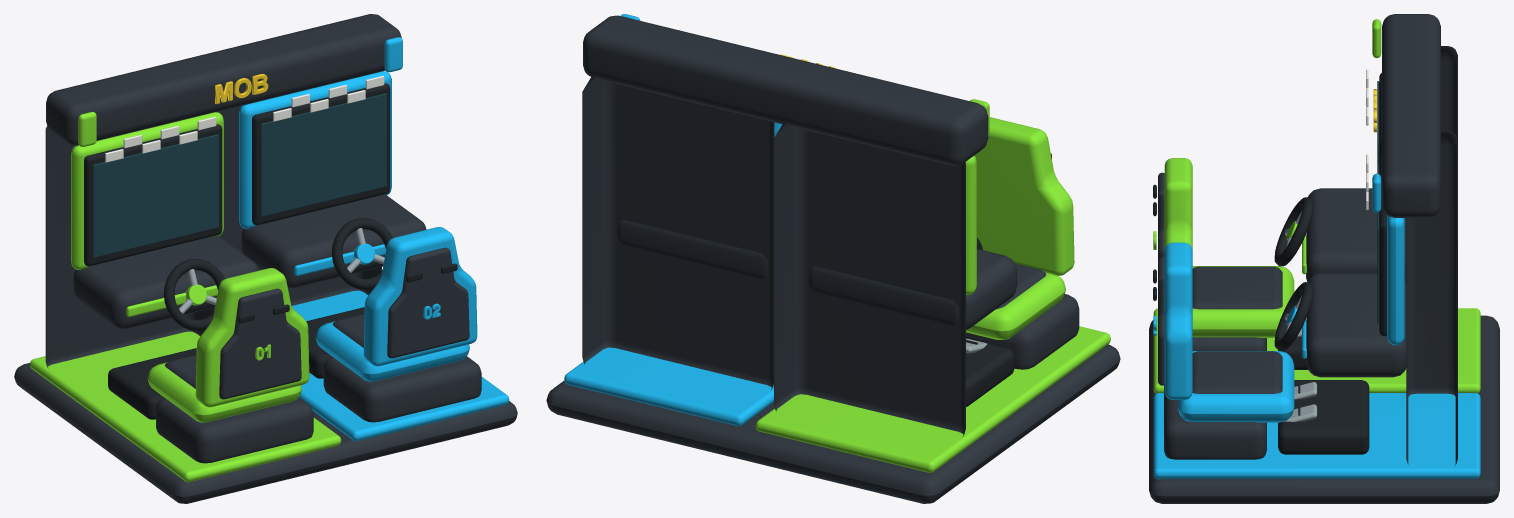
File: race.glb
3 renders of one model, left to right at view 1: azimuth 30°, elevation 25°; view 2: azimuth 150°, elevation 25°; view 3: azimuth 270°, elevation 25°, orthographic. The views are drawn at different scales.
Visible parts, largest first — view 1: Connected overhead MOB marquee, Connected two seat plinth, screen_right, screen_left, Cabinet color side sill, Monitor tower side silhouette, Dashboard molded housing, Dashboard molded housing.001, Seat pedestal.001, Seat pedestal, Seat back upholstery, Seat back upholstery.001 (+21 smaller); view 2: Monitor tower side silhouette, Monitor tower side silhouette.001, Connected overhead MOB marquee, Connected two seat plinth, Cabinet color side sill, Sculpted bucket seat shell, Cabinet color side sill.001, Dashboard molded housing, Dashboard molded housing.001, Seat pedestal, Seat cushion color shell, Pedal footwell (+2 smaller); view 3: Cabinet color side sill.001, Connected two seat plinth, Connected overhead MOB marquee, Monitor tower side silhouette.001, Dashboard molded housing.001, Dashboard molded housing, Pedal footwell.001, Sculpted bucket seat shell.001, Seat pedestal.001, Seat cushion upholstered, Seat cushion upholstered.001, Seat cushion color shell.001 (+12 smaller).
Boxes of the visible parts, x1,y1,x2,y2 form: Connected overhead MOB marquee: [46, 14, 401, 145]; Connected two seat plinth: [14, 363, 517, 503]; screen_right: [261, 93, 386, 216]; screen_left: [93, 134, 218, 257]; Cabinet color side sill: [30, 331, 341, 482]; Monitor tower side silhouette: [45, 126, 213, 368]; Dashboard molded housing: [73, 236, 258, 328]; Dashboard molded housing.001: [241, 195, 426, 287]; Seat pedestal.001: [323, 356, 481, 422]; Seat pedestal: [156, 397, 313, 463]; Seat back upholstery: [219, 288, 301, 399]; Seat back upholstery.001: [387, 247, 469, 358]; Monitor tower side silhouette: [774, 115, 965, 436]; Monitor tower side silhouette.001: [582, 67, 774, 389]; Connected overhead MOB marquee: [583, 15, 988, 165]; Connected two seat plinth: [546, 344, 1120, 503]; Cabinet color side sill: [755, 326, 1110, 472]; Sculpted bucket seat shell: [974, 117, 1074, 275]; Cabinet color side sill.001: [564, 347, 773, 426]; Dashboard molded housing: [809, 248, 1017, 329]; Dashboard molded housing.001: [617, 219, 767, 278]; Seat pedestal: [966, 294, 1079, 369]; Seat cushion color shell: [966, 272, 1065, 339]; Pedal footwell: [966, 343, 1014, 406]; Cabinet color side sill.001: [1153, 393, 1480, 479]; Connected two seat plinth: [1149, 315, 1499, 503]; Connected overhead MOB marquee: [1382, 14, 1440, 217]; Monitor tower side silhouette.001: [1406, 130, 1457, 465]; Dashboard molded housing.001: [1306, 273, 1407, 377]; Dashboard molded housing: [1306, 188, 1406, 281]; Pedal footwell.001: [1278, 380, 1369, 454]; Sculpted bucket seat shell.001: [1164, 242, 1192, 399]; Seat pedestal.001: [1164, 385, 1266, 459]; Seat cushion upholstered: [1192, 266, 1282, 309]; Seat cushion upholstered.001: [1192, 351, 1282, 393]; Seat cushion color shell.001: [1178, 351, 1294, 422].
Bounding box in the file's own units: 2.78 × 2.45 × 2.38.
